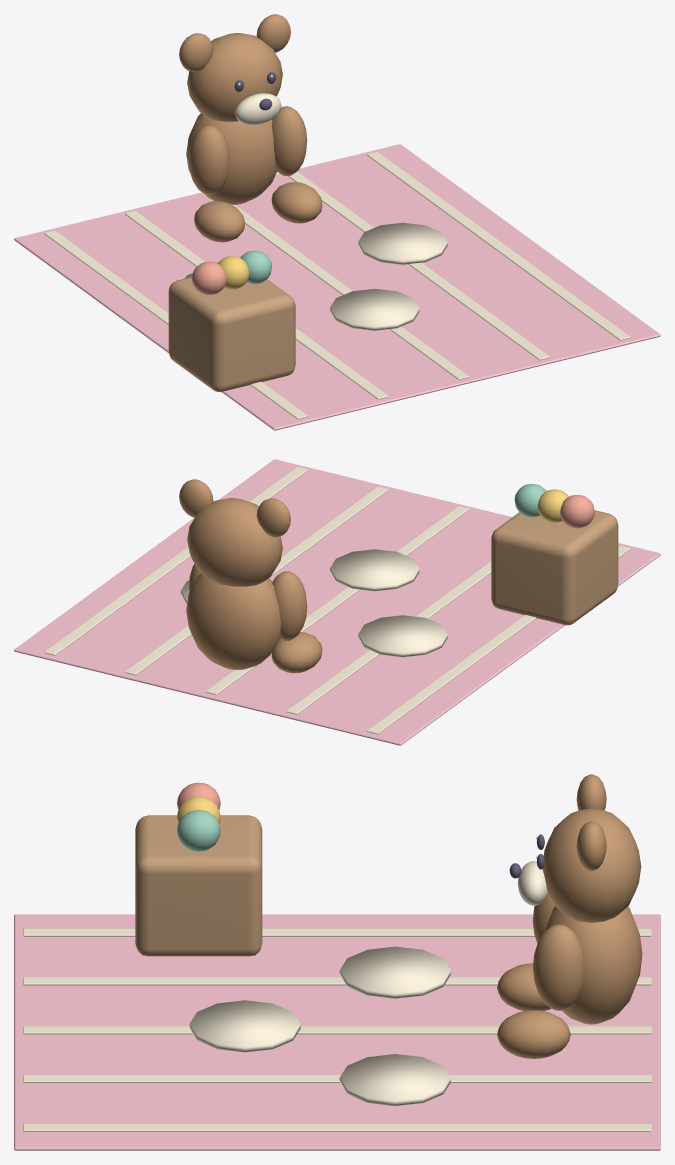
Rendered from play-picnic.glb.
3 views of the same model, one above another, from view 1: azimuth 30°, elevation 25°; view 2: azimuth 150°, elevation 25°; view 3: azimuth 270°, elevation 25° (orthographic). The views are drawn at different scales.
Visible parts, largest first — view 1: Scenery surfaces, Teddy surfaces, Picnic treat, Picnic treat.002, Picnic treat.001; view 2: Scenery surfaces, Teddy surfaces, Picnic treat, Picnic treat.002, Picnic treat.001; view 3: Scenery surfaces, Teddy surfaces, Picnic treat.002, Picnic treat, Picnic treat.001.
Boxes of the visible parts, x1,y1,x2,y2 form: Scenery surfaces: (14, 144, 660, 430); Teddy surfaces: (179, 14, 322, 242); Picnic treat: (192, 261, 226, 294); Picnic treat.002: (240, 250, 271, 283); Picnic treat.001: (217, 256, 249, 289); Scenery surfaces: (14, 459, 660, 745); Teddy surfaces: (179, 479, 322, 673); Picnic treat: (560, 495, 594, 528); Picnic treat.002: (514, 483, 546, 517); Picnic treat.001: (537, 489, 568, 522); Scenery surfaces: (14, 815, 660, 1150); Teddy surfaces: (497, 774, 642, 1058); Picnic treat.002: (177, 810, 220, 851); Picnic treat: (177, 782, 220, 809); Picnic treat.001: (177, 796, 220, 823).
Size of the model in its own units: 2.46 by 1.12 by 2.8.
